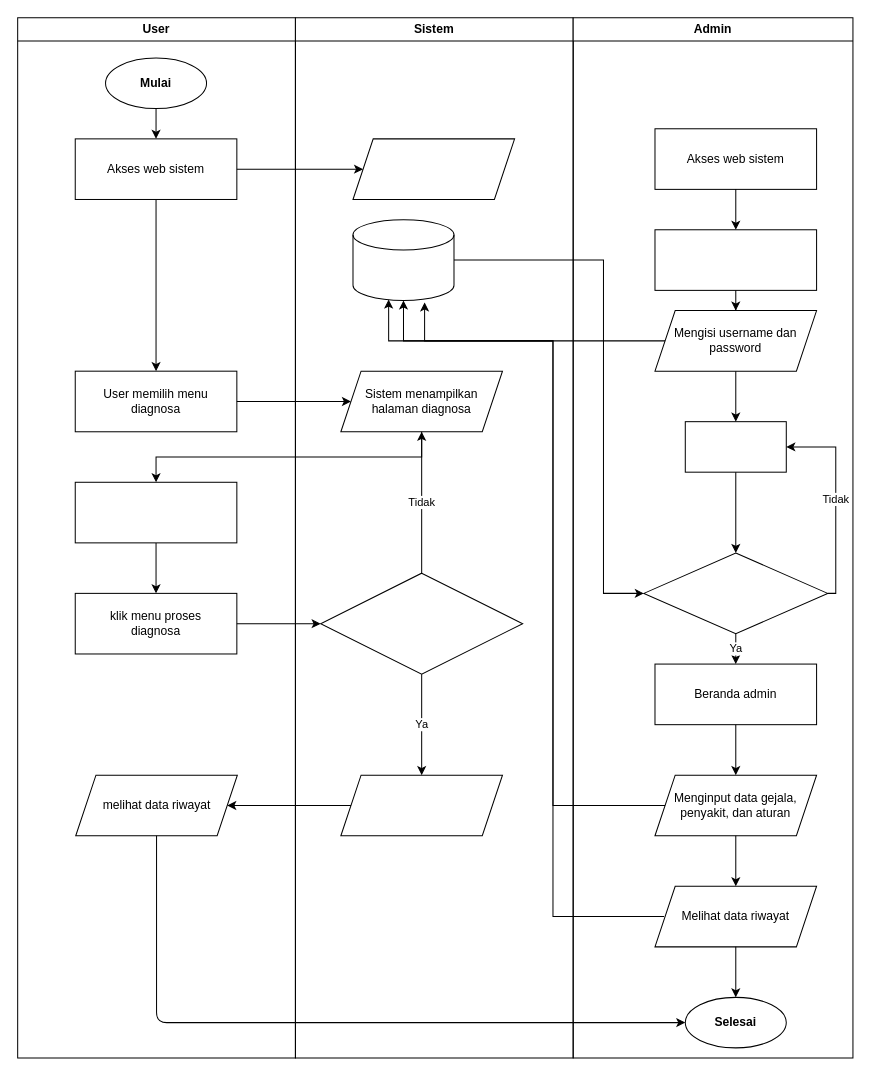
Image size: 871x1076. Some labels were removed from this diagram. Here are the shapes that lost their labels. From the top down, the centre of each, then its label:
At (x=433, y=168): "Menampilkan Beranda".
At (x=403, y=259): "Database".
At (x=735, y=259): "Tampilan halaman login".
At (x=735, y=446): "Login".
At (x=155, y=512): "User memilih gejala yang dialami oleh merpati".
At (x=735, y=593): "Apakah username dan password cocok?".
At (x=421, y=623): "Mencocokkan gejala dengan aturan forward chaining".
At (x=421, y=805): "sistem menampilkan hasil diagnosis".
